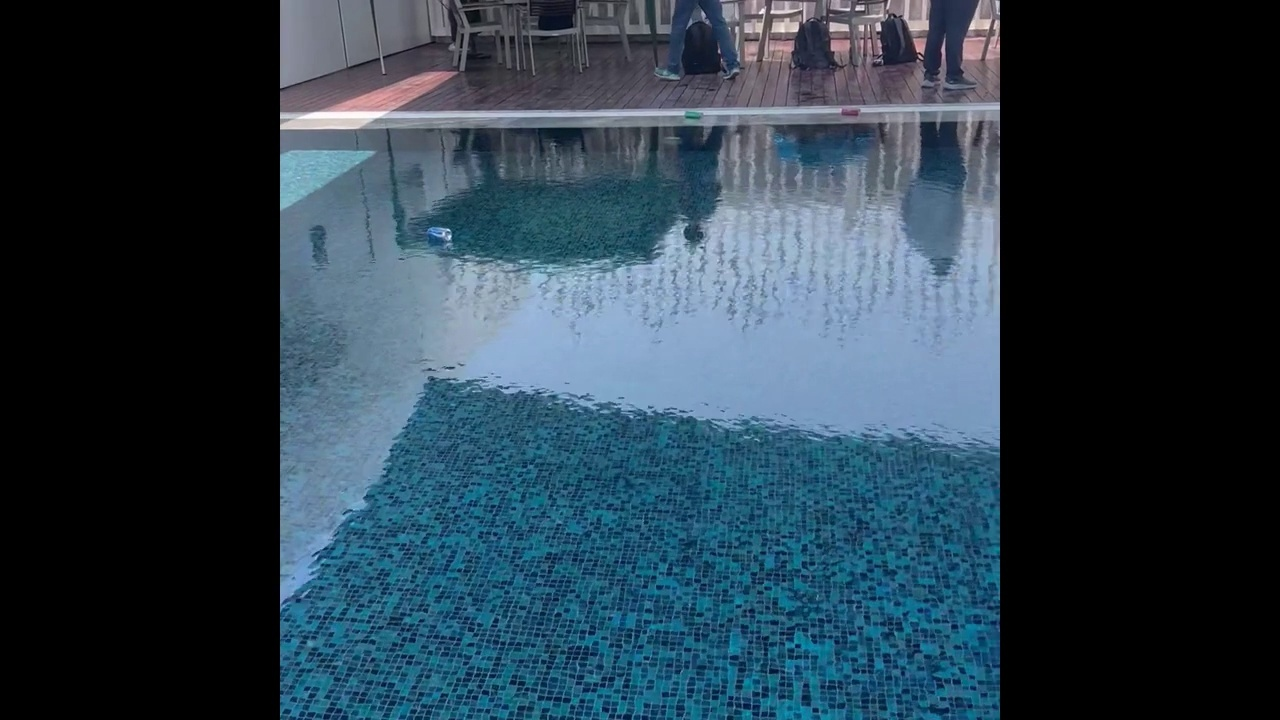debris: (423, 222, 457, 246), (683, 105, 708, 123), (838, 103, 861, 118)
